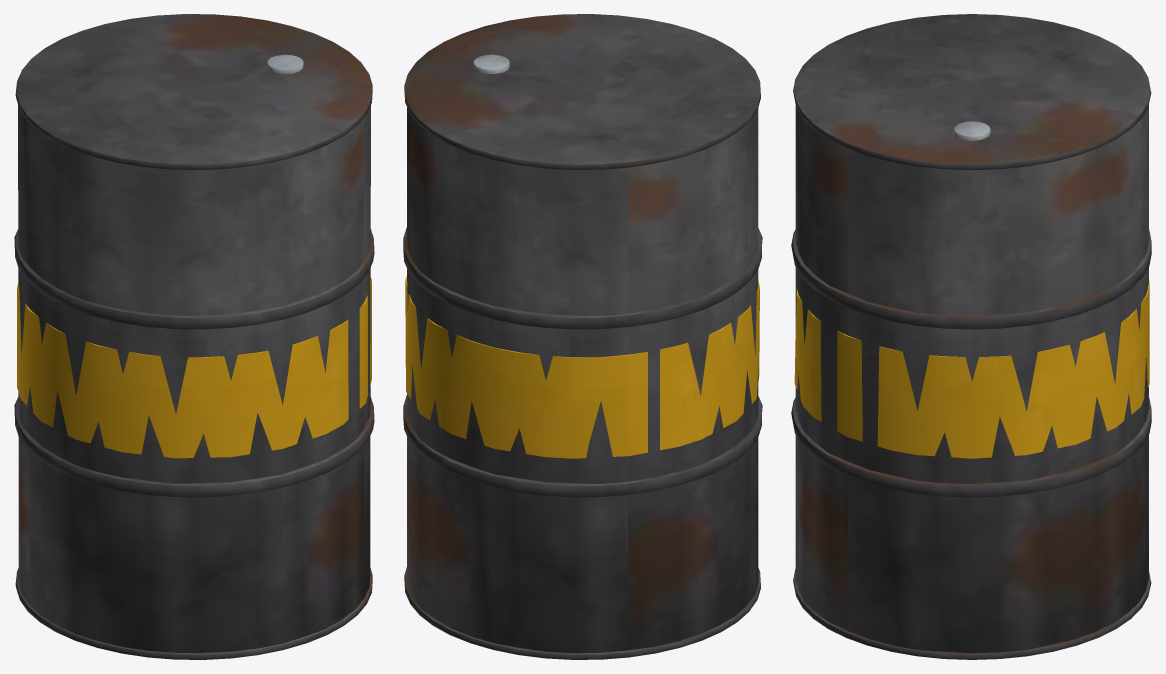
Rendered from PAV-ASF-001_lod1.glb.
The picture shows the model from 3 angles, left to right: view 1: azimuth 30°, elevation 25°; view 2: azimuth 150°, elevation 25°; view 3: azimuth 270°, elevation 25°; orthographic projection.
Parts seen in each view (by area): view 1: PAV-ASF-001_corpo, PAV-ASF-001_borda87, PAV-ASF-001_faixa, PAV-ASF-001_aro28, PAV-ASF-001_aro59, PAV-ASF-001_borda0, PAV-ASF-001_bujao; view 2: PAV-ASF-001_corpo, PAV-ASF-001_borda87, PAV-ASF-001_faixa, PAV-ASF-001_aro28, PAV-ASF-001_aro59, PAV-ASF-001_borda0, PAV-ASF-001_bujao; view 3: PAV-ASF-001_corpo, PAV-ASF-001_borda87, PAV-ASF-001_faixa, PAV-ASF-001_aro28, PAV-ASF-001_aro59, PAV-ASF-001_borda0, PAV-ASF-001_bujao.
Boxes of the visible parts, x1,y1,x2,y2 form: PAV-ASF-001_corpo: (18, 105, 370, 652); PAV-ASF-001_borda87: (15, 14, 372, 169); PAV-ASF-001_faixa: (17, 277, 371, 458); PAV-ASF-001_aro28: (14, 397, 374, 497); PAV-ASF-001_aro59: (14, 229, 374, 329); PAV-ASF-001_borda0: (15, 568, 372, 659); PAV-ASF-001_bujao: (267, 54, 303, 73); PAV-ASF-001_corpo: (407, 107, 758, 653); PAV-ASF-001_borda87: (404, 14, 760, 169); PAV-ASF-001_faixa: (405, 276, 759, 458); PAV-ASF-001_aro28: (403, 395, 762, 497); PAV-ASF-001_aro59: (403, 227, 762, 329); PAV-ASF-001_borda0: (404, 567, 760, 659); PAV-ASF-001_bujao: (473, 54, 509, 73); PAV-ASF-001_corpo: (795, 105, 1148, 653); PAV-ASF-001_borda87: (793, 14, 1151, 170); PAV-ASF-001_faixa: (794, 280, 1149, 458); PAV-ASF-001_aro28: (791, 397, 1151, 497); PAV-ASF-001_aro59: (791, 229, 1151, 329); PAV-ASF-001_borda0: (793, 569, 1151, 659); PAV-ASF-001_bujao: (953, 121, 990, 140).
Size of the model in its own units: 0.5836 by 0.895 by 0.5836.
Materials: 3 (3 with a texture image).
